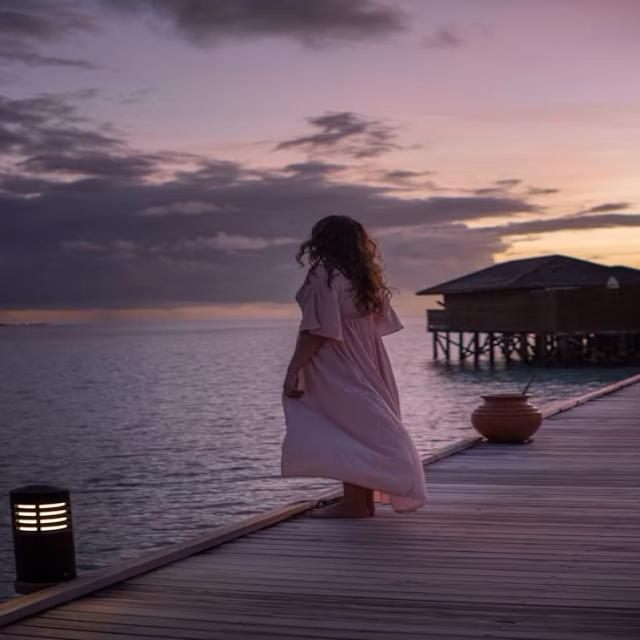Edited images: (246, 200, 454, 549)
